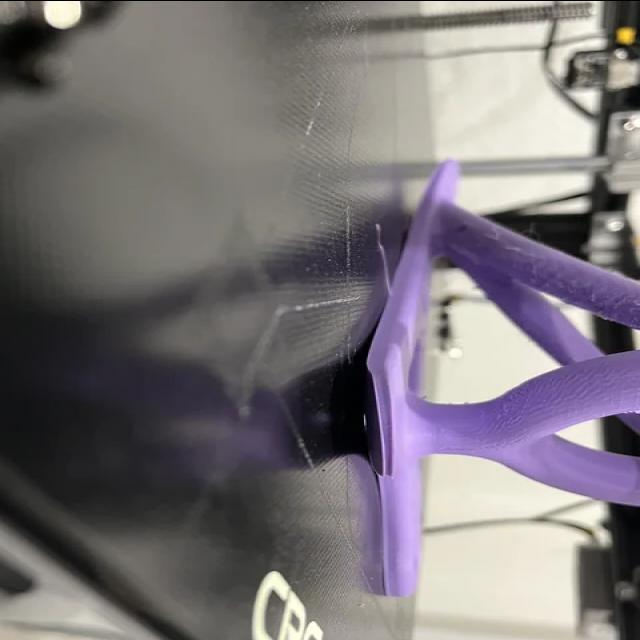Warping: (352, 316, 382, 476)
